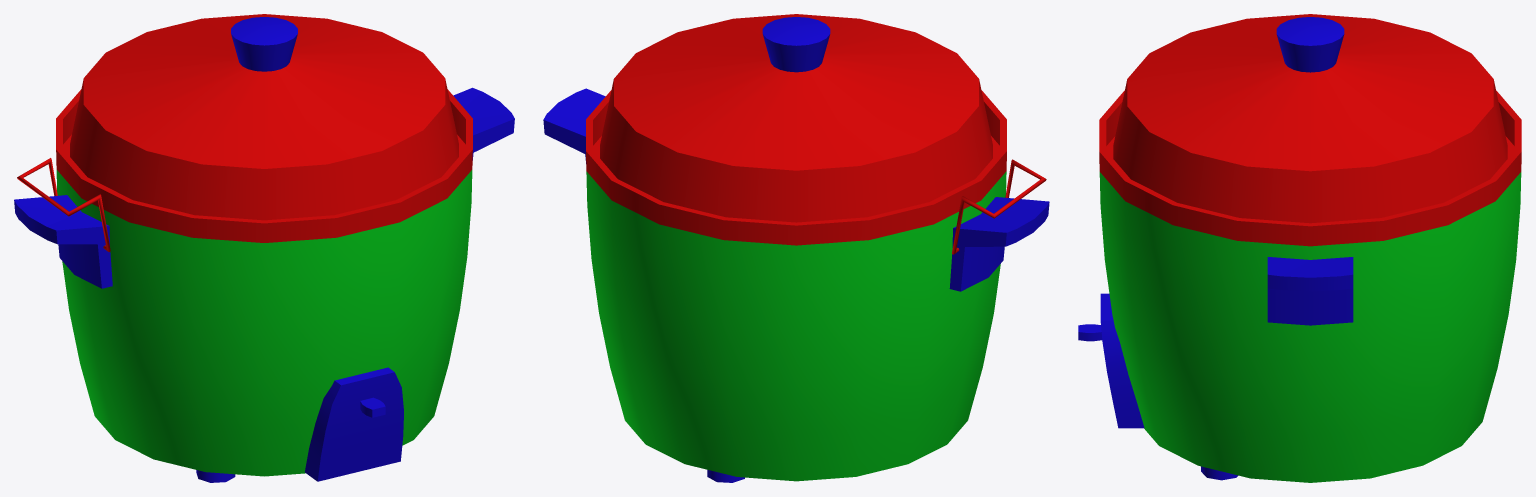
The model's file is rice_cooker.FBX.
3 views of the same model, side by side, from view 1: azimuth 30°, elevation 25°; view 2: azimuth 150°, elevation 25°; view 3: azimuth 270°, elevation 25° (orthographic).
Visible parts, largest first — view 1: rice_cooker, rice_cooker_cap; view 2: rice_cooker, rice_cooker_cap; view 3: rice_cooker, rice_cooker_cap.
Boxes of the visible parts, x1,y1,x2,y2 form: rice_cooker: (14,87,514,482); rice_cooker_cap: (70,14,458,220); rice_cooker: (543,88,1049,482); rice_cooker_cap: (600,14,992,222); rice_cooker: (1078,90,1521,482); rice_cooker_cap: (1113,14,1507,223).
Bounding box in the file's own units: 0.3858 × 0.3101 × 0.3076.
